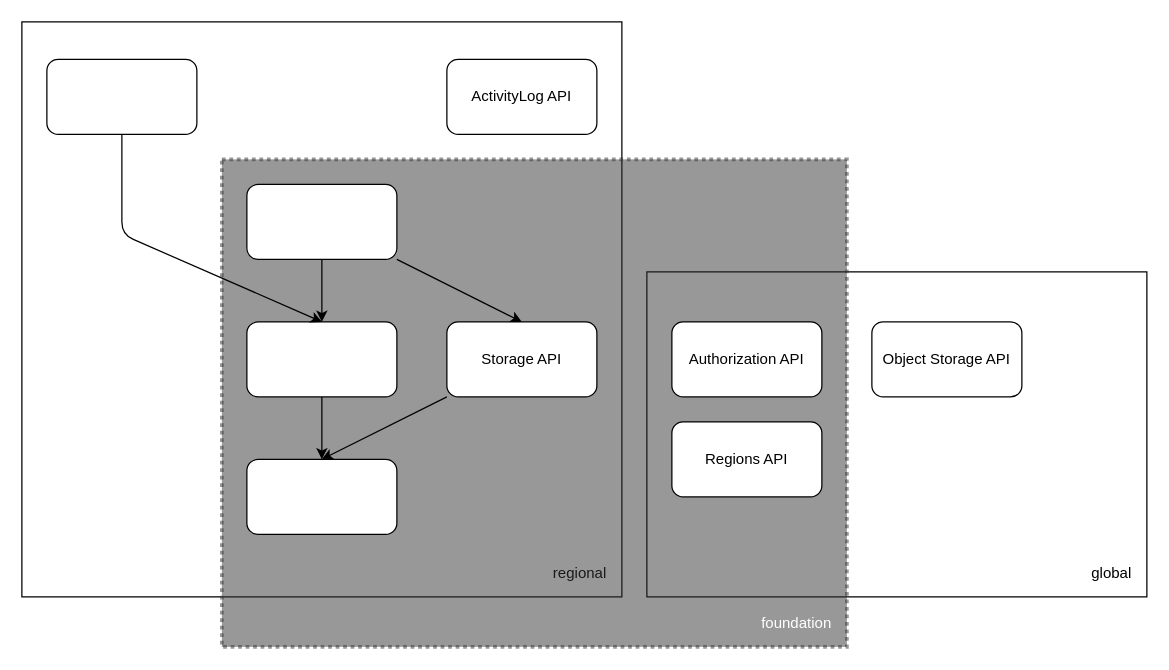
The diagram is 1169 pixels wide and 670 high, and some of its shapes have lost their labels. The shapes that lost their labels are listed below. From the top down, each one's centre as x and y in pixels, then its label:
At (x=121, y=96): "Network Loadbalancer API".
At (x=321, y=221): "Compute API".
At (x=321, y=359): "Network API".
At (x=321, y=496): "Workspace API".
